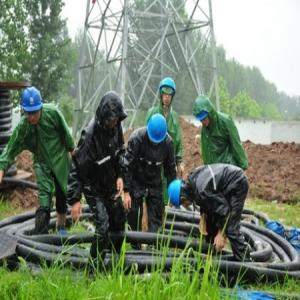blue: (168, 175, 193, 212), (144, 112, 169, 147), (21, 87, 44, 124), (193, 96, 212, 128), (159, 77, 177, 107)
